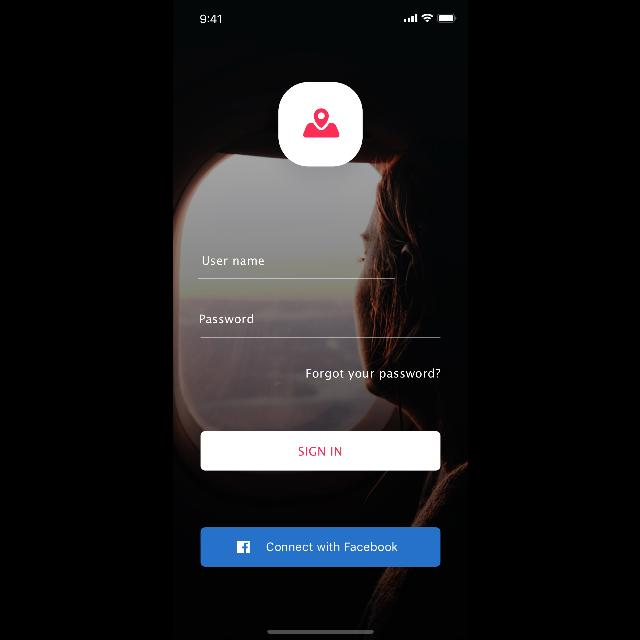backgroundimage: (172, 1, 468, 640)
image: (278, 82, 362, 168)
input: (200, 314, 440, 338), (198, 256, 394, 280)
text: (306, 368, 440, 380), (202, 256, 262, 266), (199, 314, 253, 324)
textbutton: (200, 432, 440, 471), (200, 528, 440, 566)
uppertaskbar: (200, 14, 456, 24)
